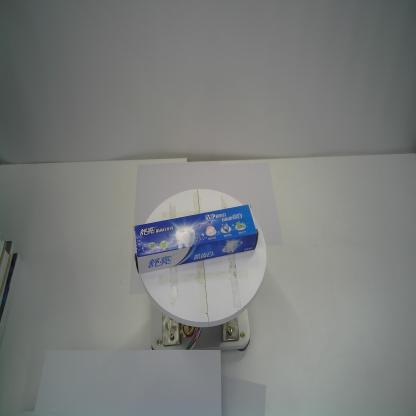Personal Hygiene: (132, 203, 258, 276)
